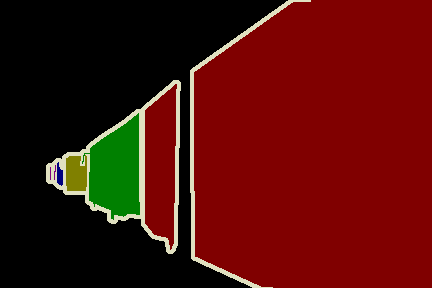bus: (140, 1, 432, 288), (80, 112, 142, 223), (65, 153, 90, 193), (56, 161, 63, 184), (48, 165, 57, 182)
